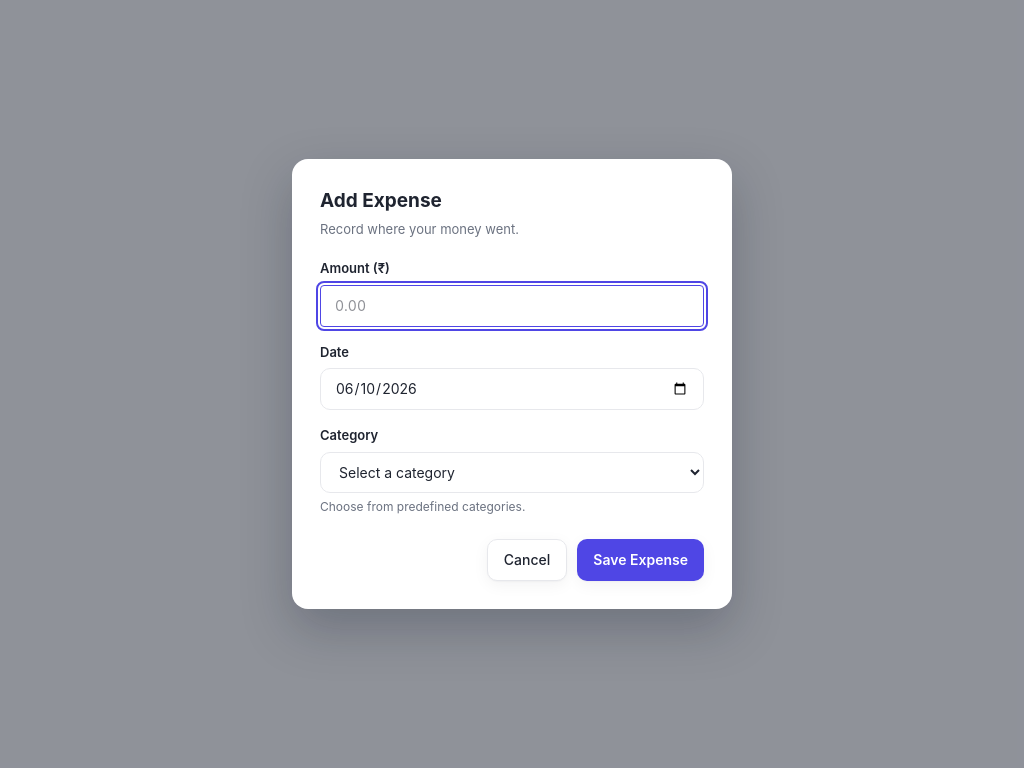
it: ExpenseFormModal — add mode (P7-3) › surfaces a server validation error inline and stays open
In the field labelled "Amount (₹)": x=512, y=306 left=320, top=285, right=704, bottom=327, type "10"
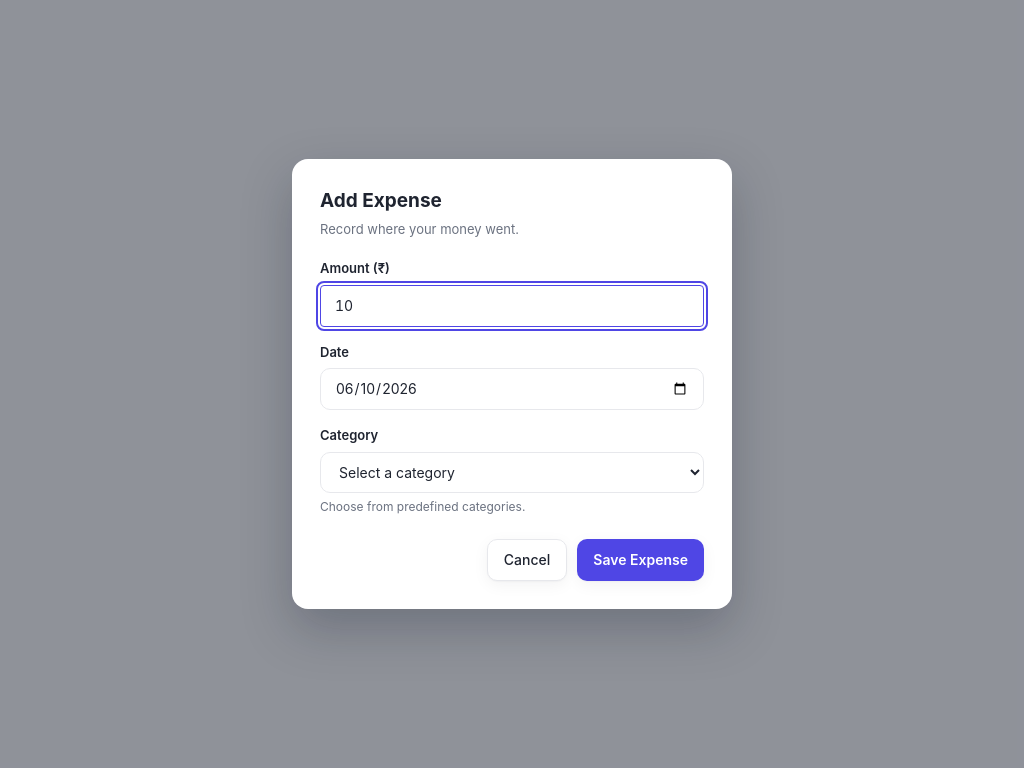
Select "Food" in the dropdown labelled "Category": x=512, y=472 left=320, top=452, right=704, bottom=493
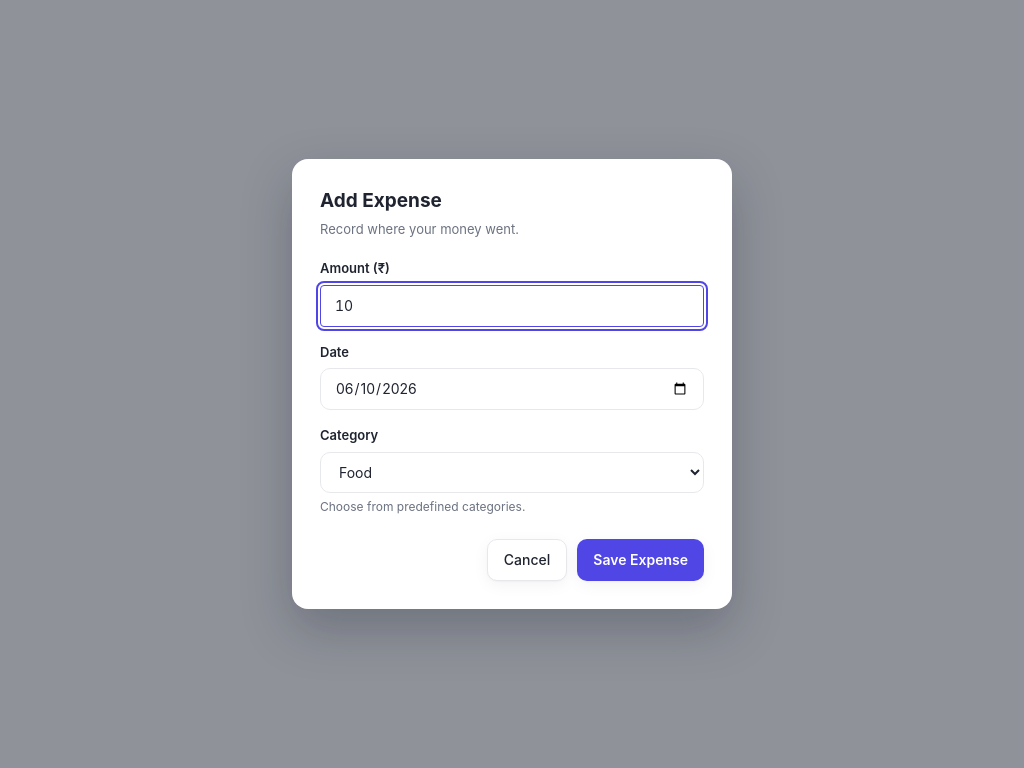
Click the button "Save Expense": x=641, y=560 left=577, top=539, right=704, bottom=581
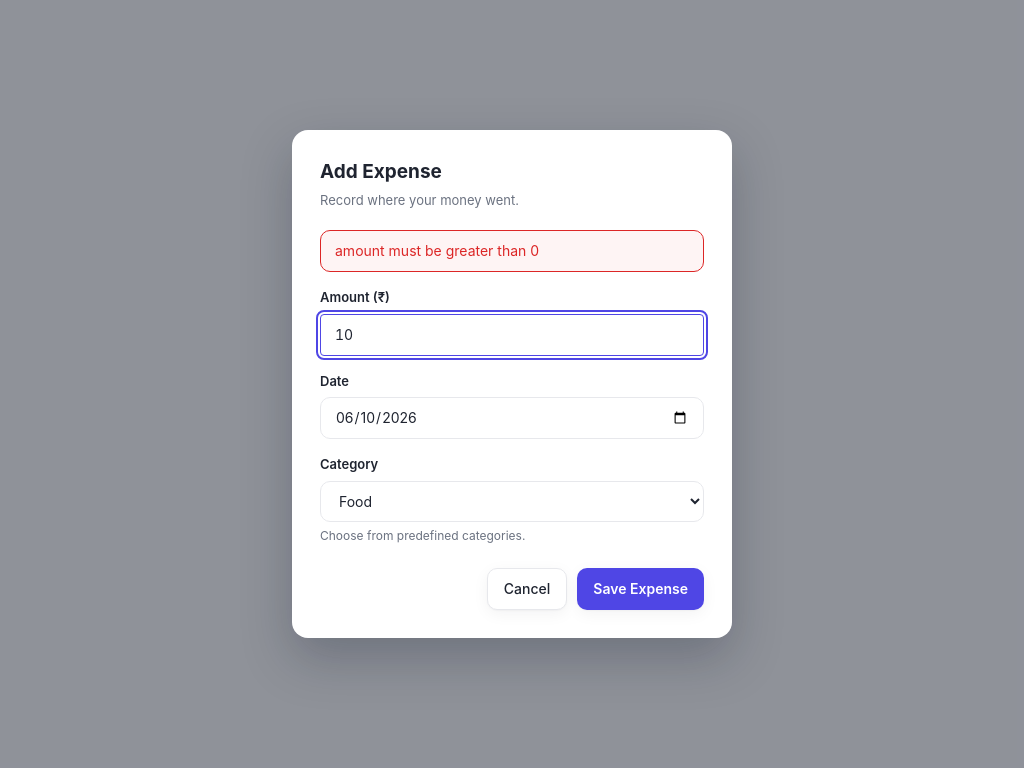
Check: the message reads "amount must be greater than 0", box left=335, top=242, right=539, bottom=259
